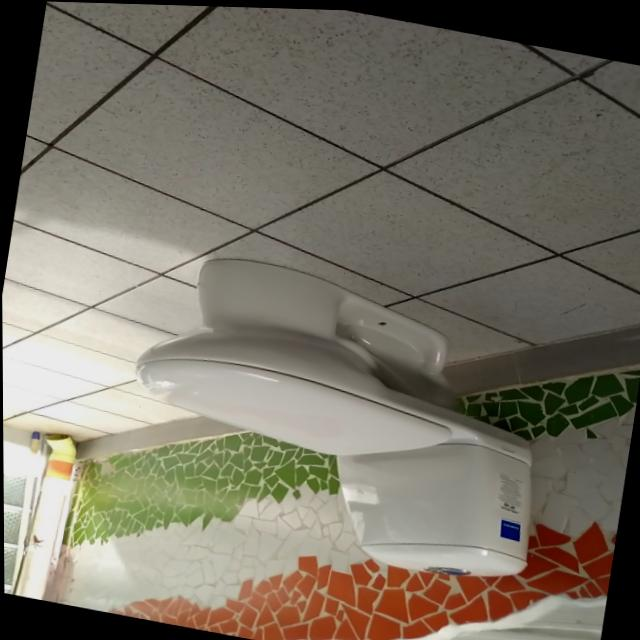toilet: (109, 240, 565, 590)
